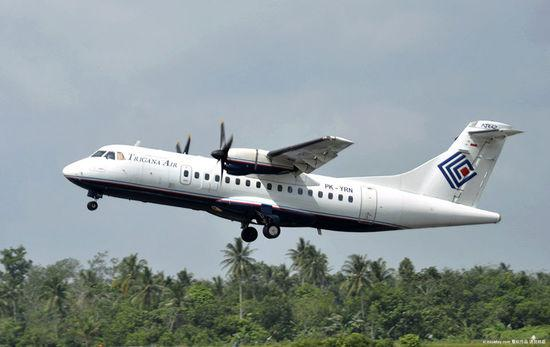airplane: (60, 114, 530, 251)
